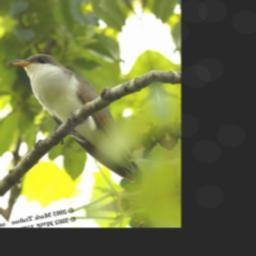Cuckoo: (6, 37, 149, 206)
